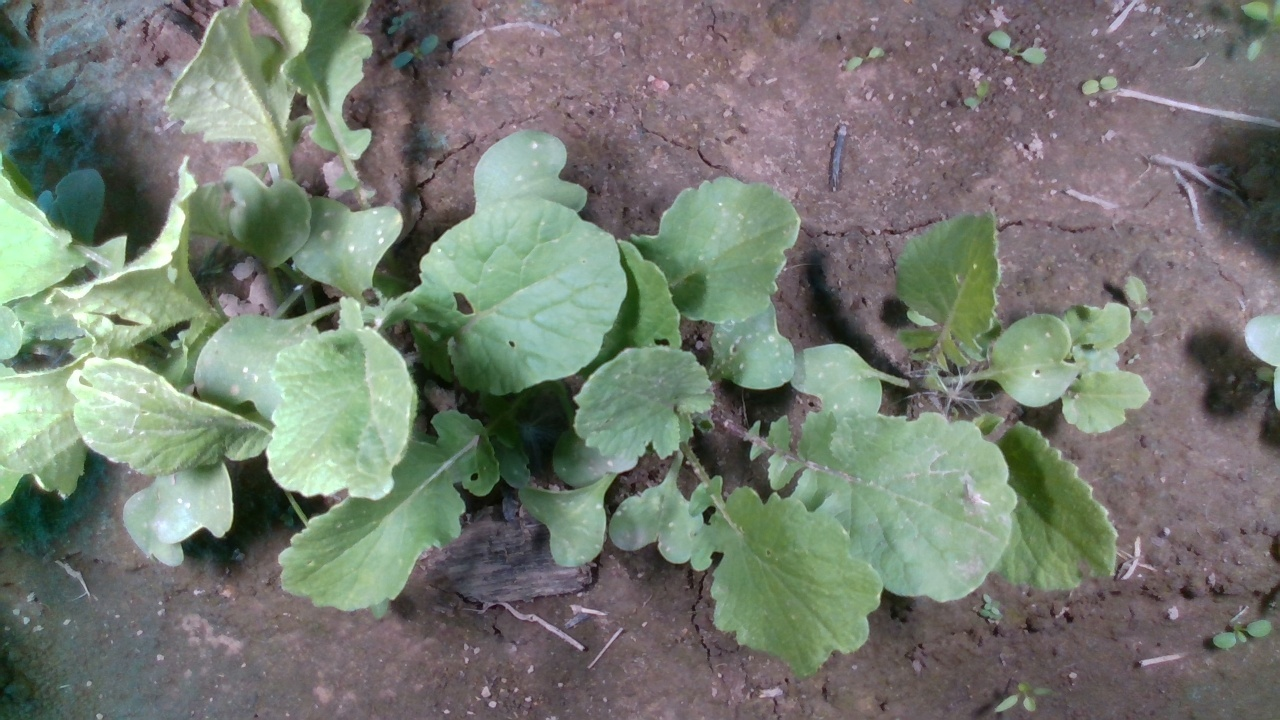weed: (991, 678, 1057, 713), (987, 29, 1048, 64), (1211, 618, 1273, 650), (843, 45, 885, 73), (963, 74, 989, 110), (1080, 75, 1117, 95)
